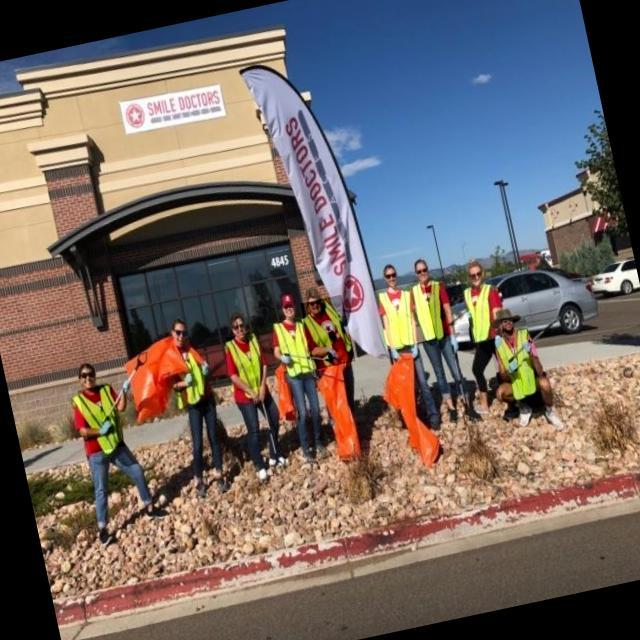Person: (56, 335, 156, 554), (157, 317, 223, 497), (496, 297, 574, 448), (311, 271, 361, 465), (223, 302, 268, 512), (379, 250, 417, 492), (417, 251, 462, 450), (271, 283, 310, 502), (462, 247, 497, 423)
Safety Boot: (94, 524, 125, 554), (511, 406, 533, 434), (141, 508, 172, 523), (543, 407, 563, 430), (190, 476, 212, 495), (253, 467, 274, 484), (465, 401, 480, 424), (216, 473, 232, 493), (448, 407, 464, 423), (272, 448, 284, 469)
Safety Vest: (486, 317, 544, 415), (375, 281, 436, 350), (301, 294, 356, 369), (267, 314, 323, 384), (77, 383, 125, 453), (461, 275, 505, 343), (406, 283, 450, 344), (226, 331, 266, 391), (175, 363, 209, 410)
no-helmet: (77, 360, 99, 380), (228, 312, 251, 331), (497, 307, 524, 323), (306, 287, 328, 303), (466, 259, 486, 274), (170, 318, 190, 333), (381, 259, 399, 275), (280, 294, 298, 309), (414, 256, 428, 270)
